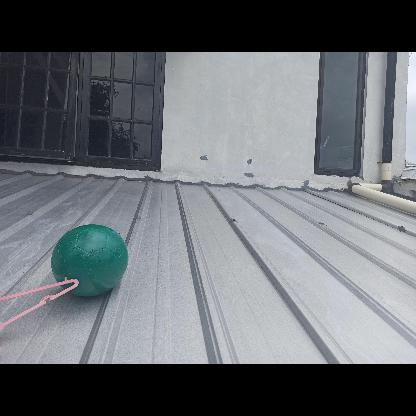green_ball: (52, 222, 130, 298)
